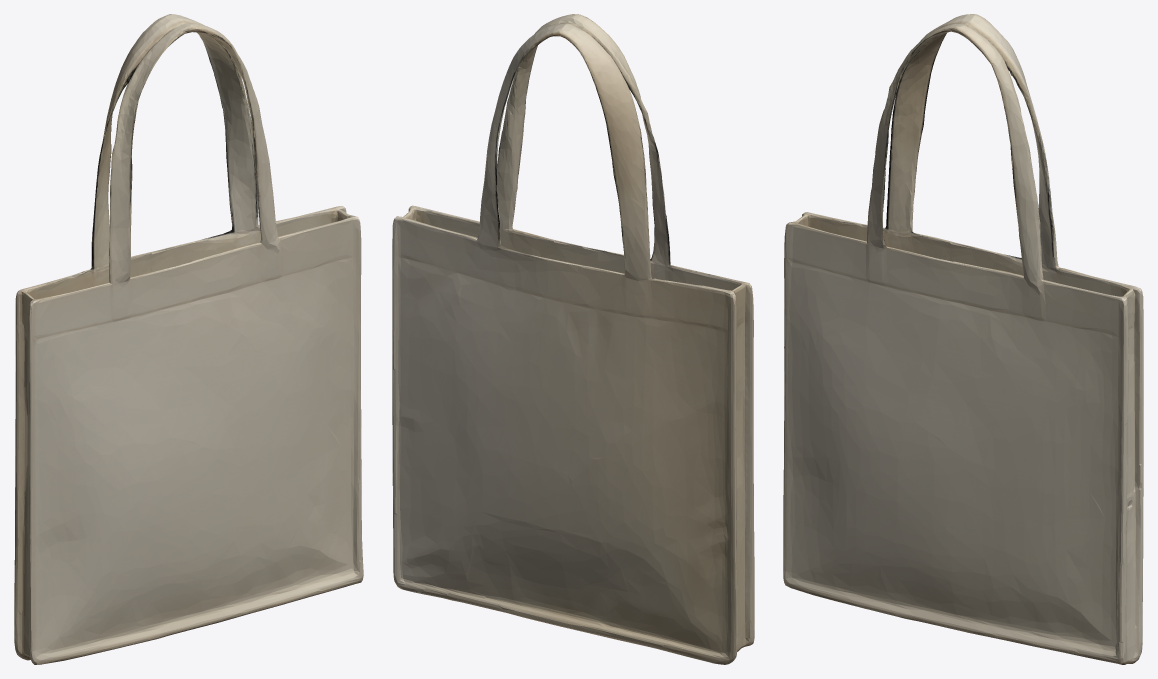
The model's file is tote_bag.glb.
3 renders of one model, left to right at view 1: azimuth 30°, elevation 25°; view 2: azimuth 150°, elevation 25°; view 3: azimuth 330°, elevation 25°, orthographic.
Parts seen in each view (by area): view 1: world; view 2: world; view 3: world.
Part boxes in pixels (<box>): world: <box>14,14,363,664</box>; world: <box>392,14,754,664</box>; world: <box>783,14,1143,664</box>.
Bounding box in the file's own units: 0.584 × 0.996 × 0.1124.
1 material, 1 textured.
